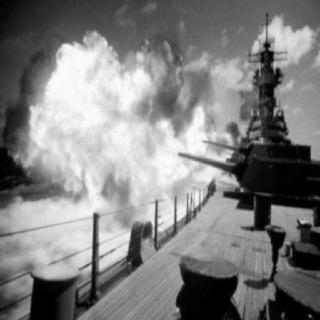Fire: (19, 22, 223, 210)
